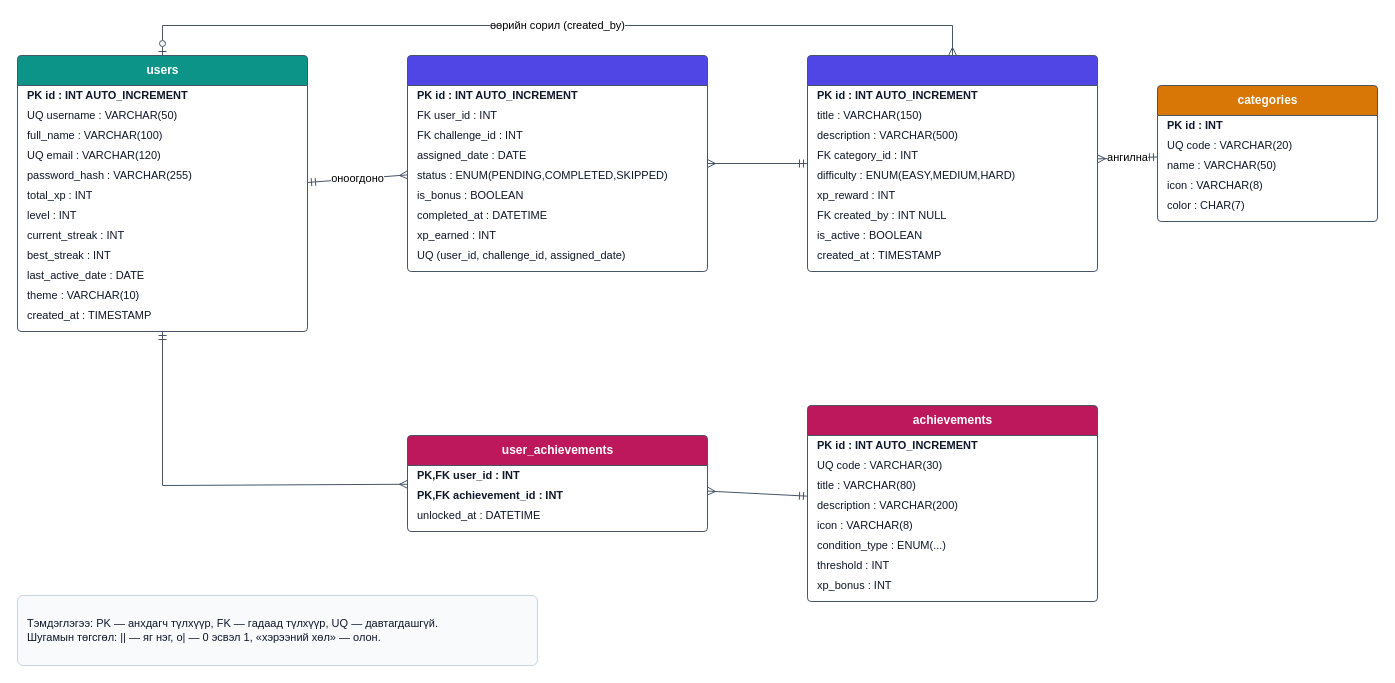
This 1395x683 diagram has some shape labels left out. The shapes that lost their labels are listed below. From the top down, each one's box as (x1, y1, x2, y2) in pixels, then its label:
(406, 54, 708, 272): daily_tasks
(806, 54, 1098, 272): challenges
